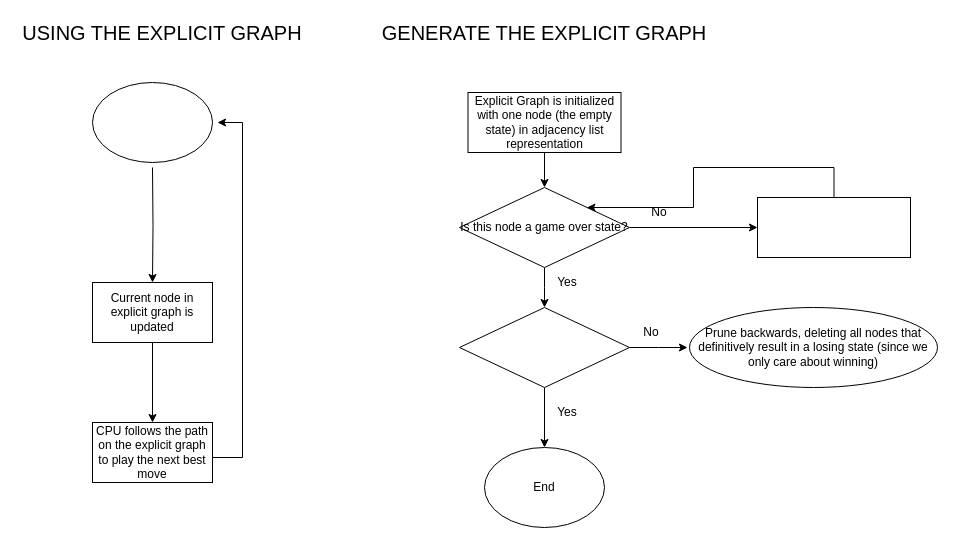
The diagram is 955 pixels wide and 545 high, and some of its shapes have lost their labels. The box of each missing label's shape, as (x1, y1, x2, y2) in pixels:
Add the node resulting from taking every possible next move to the graph: (756, 196, 910, 258)
Is this node a winning state? (for the CPU): (458, 306, 630, 388)
Player plays a move: (92, 82, 212, 162)
